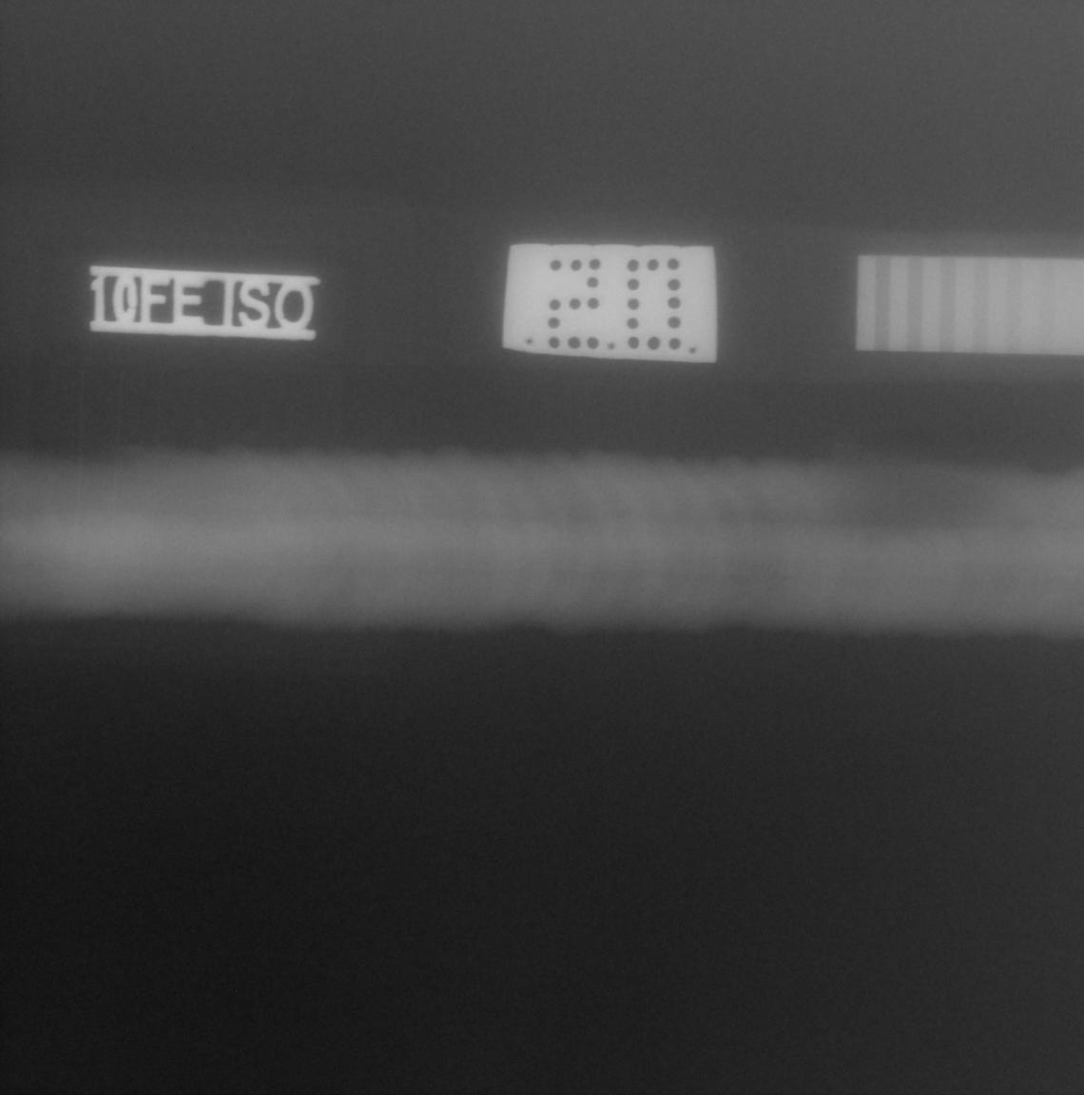Inclusion: (459, 516, 474, 527), (277, 599, 290, 603)
Pore/Porosity: (884, 504, 887, 508)
